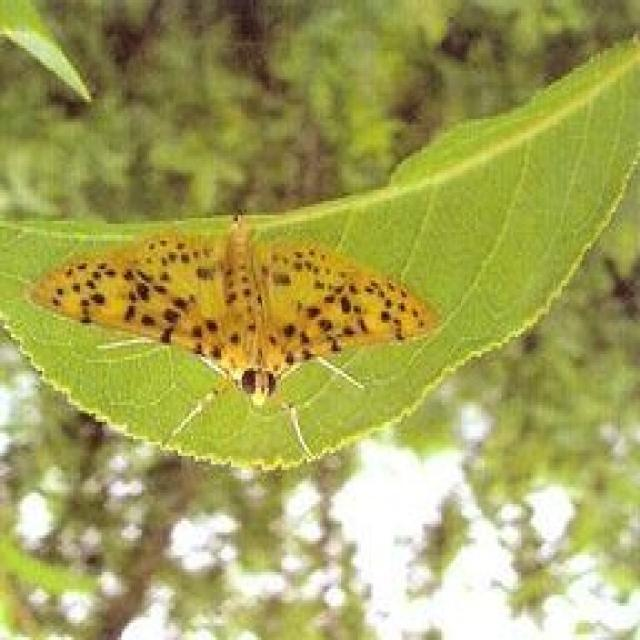peach borer: (19, 216, 437, 420)
